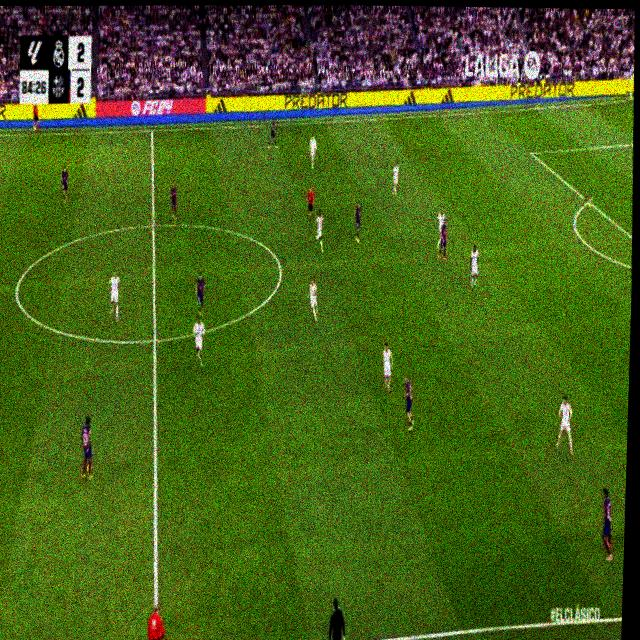bigarea_top_inner: (526, 144, 535, 160)
corner: (625, 91, 634, 103)
halfcircle_bottom: (148, 325, 161, 353)
halfcircle_top: (148, 212, 159, 236)
midline_top_intersection: (148, 122, 155, 137)
top_arc_area_intersection: (585, 192, 593, 209)
